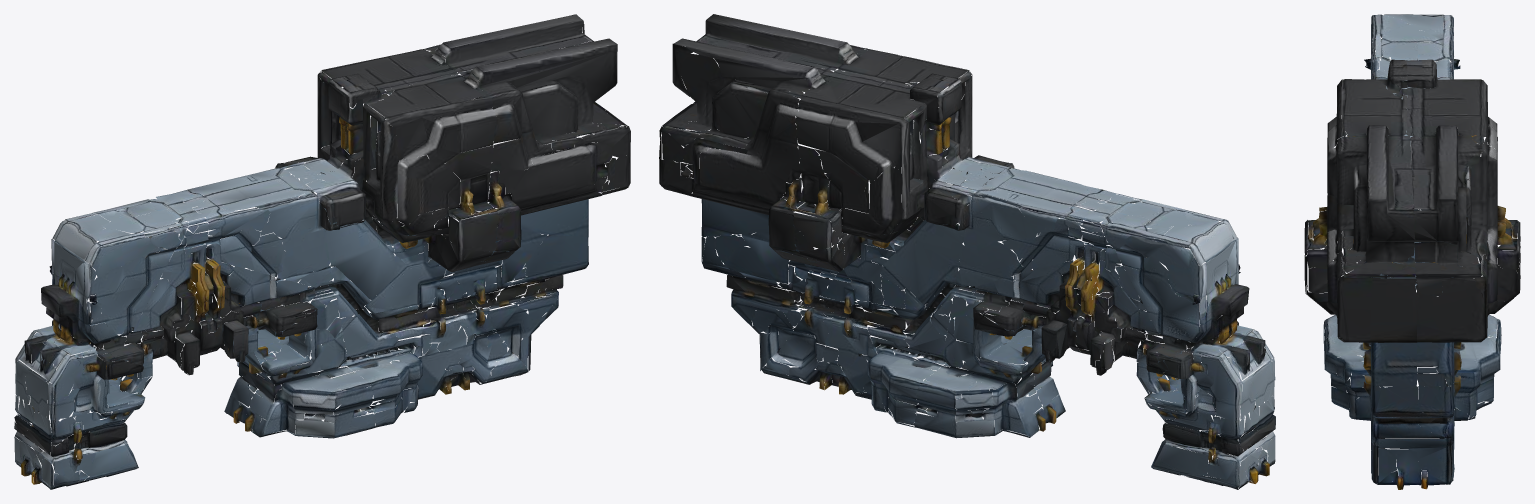
File: HL_Asset_GunBattery.glb
3 views of the same model, side by side, from view 1: azimuth 30°, elevation 25°; view 2: azimuth 150°, elevation 25°; view 3: azimuth 270°, elevation 25° (orthographic). The views are drawn at different scales.
Visible parts, largest first — view 1: tripo_node_aea1b2da-bea1-4d04-864a-64c8c9ead037; view 2: tripo_node_aea1b2da-bea1-4d04-864a-64c8c9ead037; view 3: tripo_node_aea1b2da-bea1-4d04-864a-64c8c9ead037.
Part boxes in pixels (x1=…): tripo_node_aea1b2da-bea1-4d04-864a-64c8c9ead037: x1=14, y1=14, x2=630, y2=489; tripo_node_aea1b2da-bea1-4d04-864a-64c8c9ead037: x1=659, y1=14, x2=1275, y2=489; tripo_node_aea1b2da-bea1-4d04-864a-64c8c9ead037: x1=1304, y1=14, x2=1520, y2=489.
Size of the model in its own units: 0.9786 by 0.5227 by 0.3015.
Materials: 1 (1 with a texture image).
